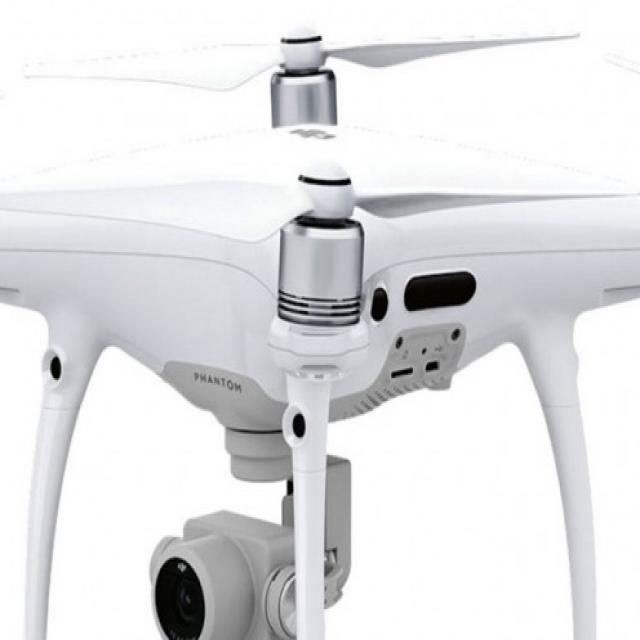drone: (0, 5, 640, 443)
